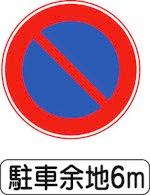Prohibition_sign: (1, 1, 144, 139)
